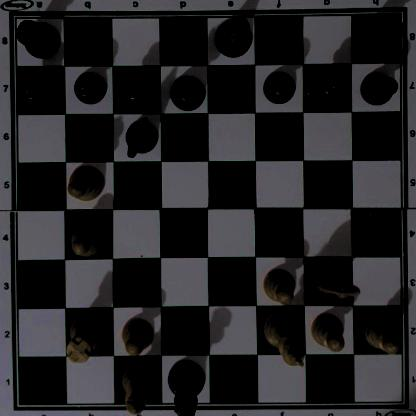black-bishop: (167, 74, 206, 112)
black-king: (212, 15, 253, 58)
black-knight: (123, 115, 159, 157)
black-pawn: (360, 69, 396, 105), (262, 67, 295, 102), (20, 72, 54, 104), (73, 70, 105, 104), (121, 72, 153, 106), (311, 68, 343, 101)
black-queen: (166, 358, 205, 416)
black-rook: (13, 16, 61, 58), (358, 13, 404, 55)
white-bishop: (121, 359, 154, 414), (66, 163, 103, 200)
white-king: (263, 310, 303, 365)
white-knight: (311, 259, 361, 300)
white-pawn: (310, 311, 347, 352), (363, 315, 400, 352), (120, 316, 154, 356), (67, 222, 104, 258), (262, 266, 296, 303)
white-rook: (63, 313, 105, 363)
